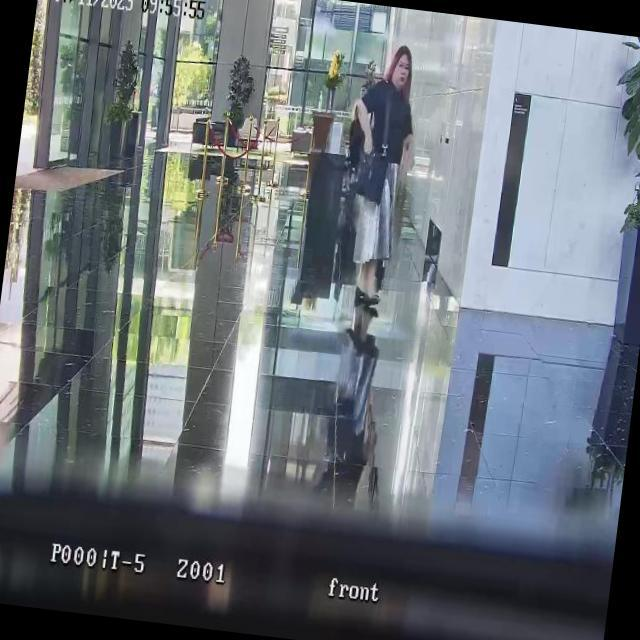person: (328, 40, 428, 312)
